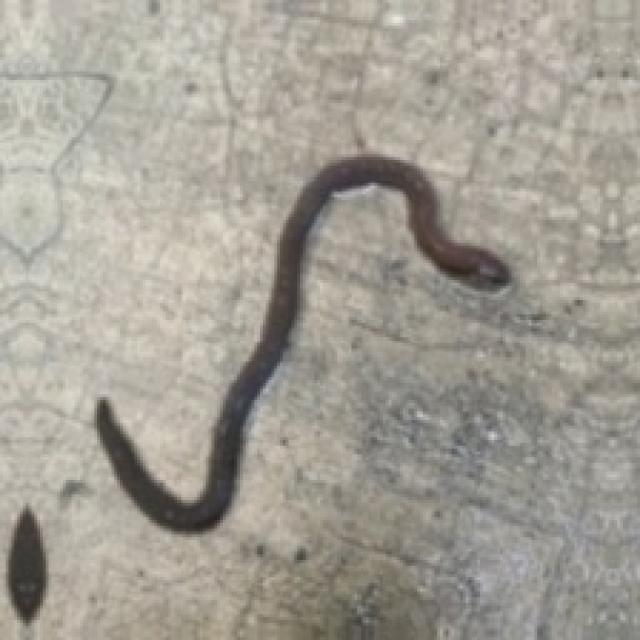gervais worm snake: (94, 154, 509, 529)
